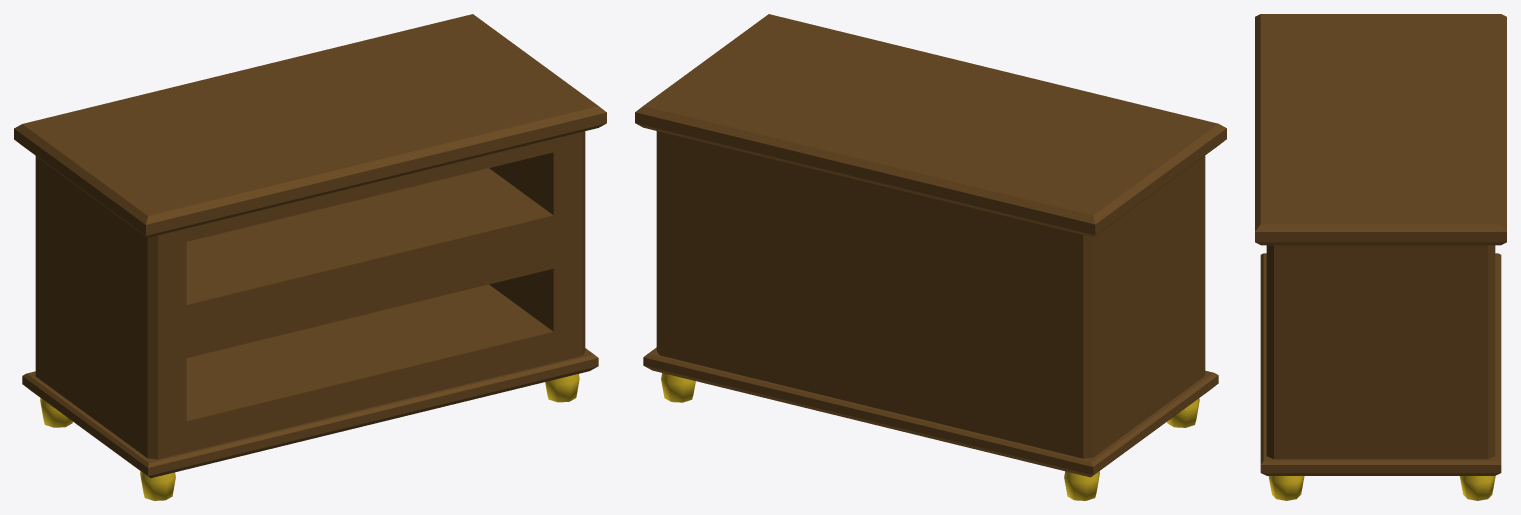
The model's file is drawer_9.glb.
3 renders of one model, left to right at view 1: azimuth 30°, elevation 25°; view 2: azimuth 150°, elevation 25°; view 3: azimuth 270°, elevation 25°, orthographic. The views are drawn at different scales.
Visible parts, largest first — view 1: Drawer B; view 2: Drawer B; view 3: Drawer B.
Boxes of the visible parts, bbox=[...] form: Drawer B: bbox=[14, 14, 606, 500]; Drawer B: bbox=[635, 14, 1226, 500]; Drawer B: bbox=[1255, 14, 1506, 500].
Size of the model in its own units: 1.56 by 0.9491 by 0.77.
Materials: 1 (1 with a texture image).
